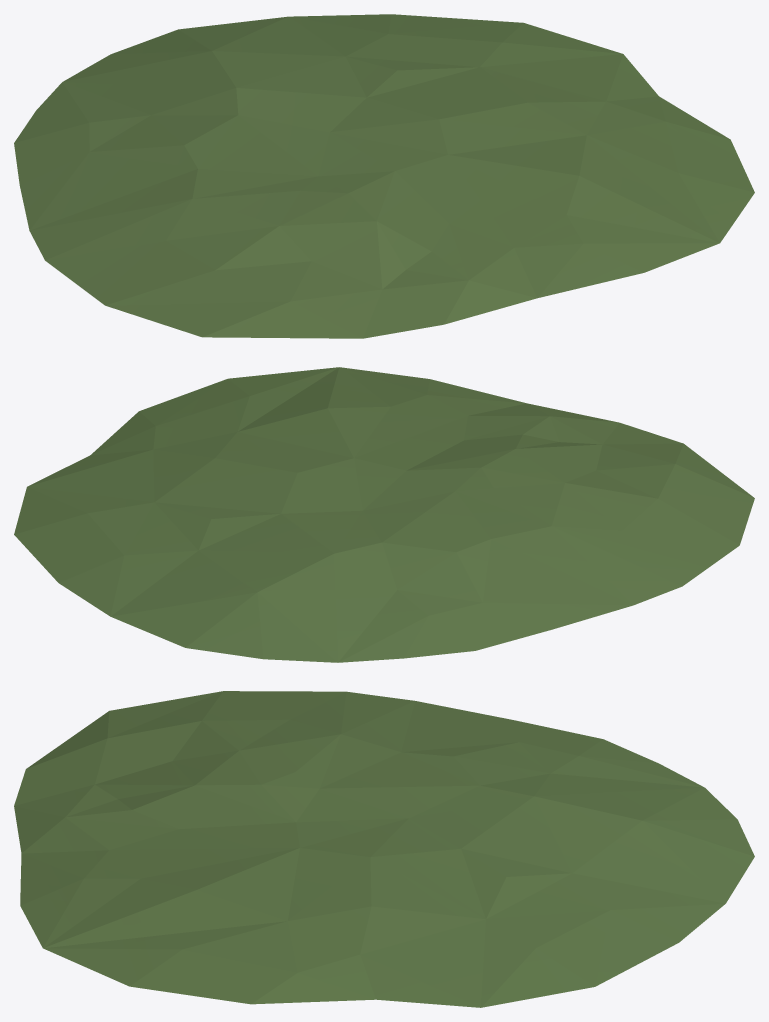
Rendered from elven_SM_Env_Ground_Grass_02.gltf.
3 views of the same model, one above another, from view 1: azimuth 30°, elevation 25°; view 2: azimuth 150°, elevation 25°; view 3: azimuth 270°, elevation 25° (orthographic). The views are drawn at different scales.
Visible parts, largest first — view 1: SM_Env_Ground_Grass_02; view 2: SM_Env_Ground_Grass_02; view 3: SM_Env_Ground_Grass_02.
Boxes of the visible parts, x1,y1,x2,y2 form: SM_Env_Ground_Grass_02: (14,14,754,338); SM_Env_Ground_Grass_02: (14,367,754,662); SM_Env_Ground_Grass_02: (14,691,754,1007).
Size of the model in its own units: 5.77 by 0.2964 by 5.71.
1 material, 1 textured.
